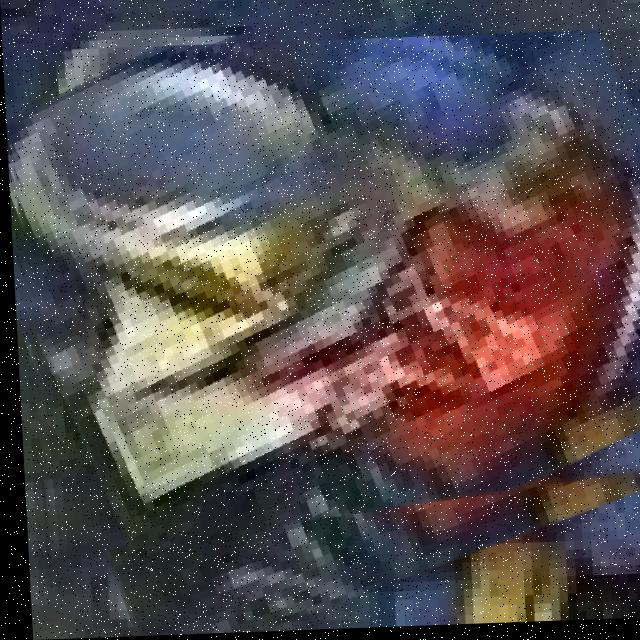can: (8, 45, 640, 527)
